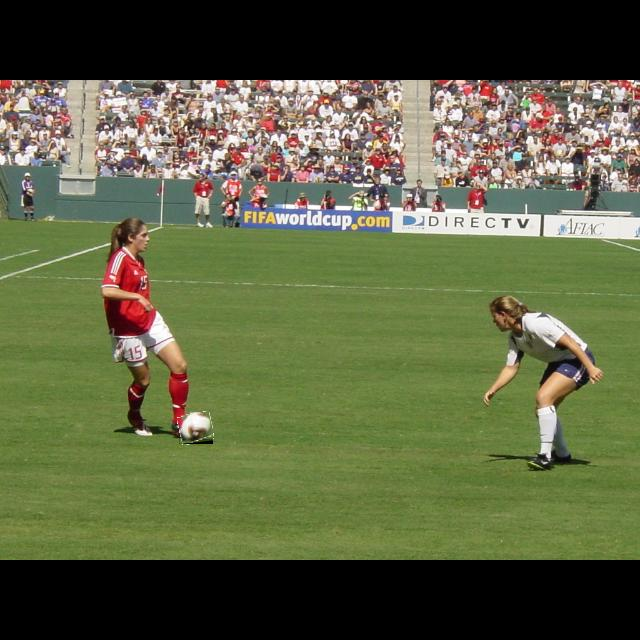Football: (179, 412, 213, 444)
